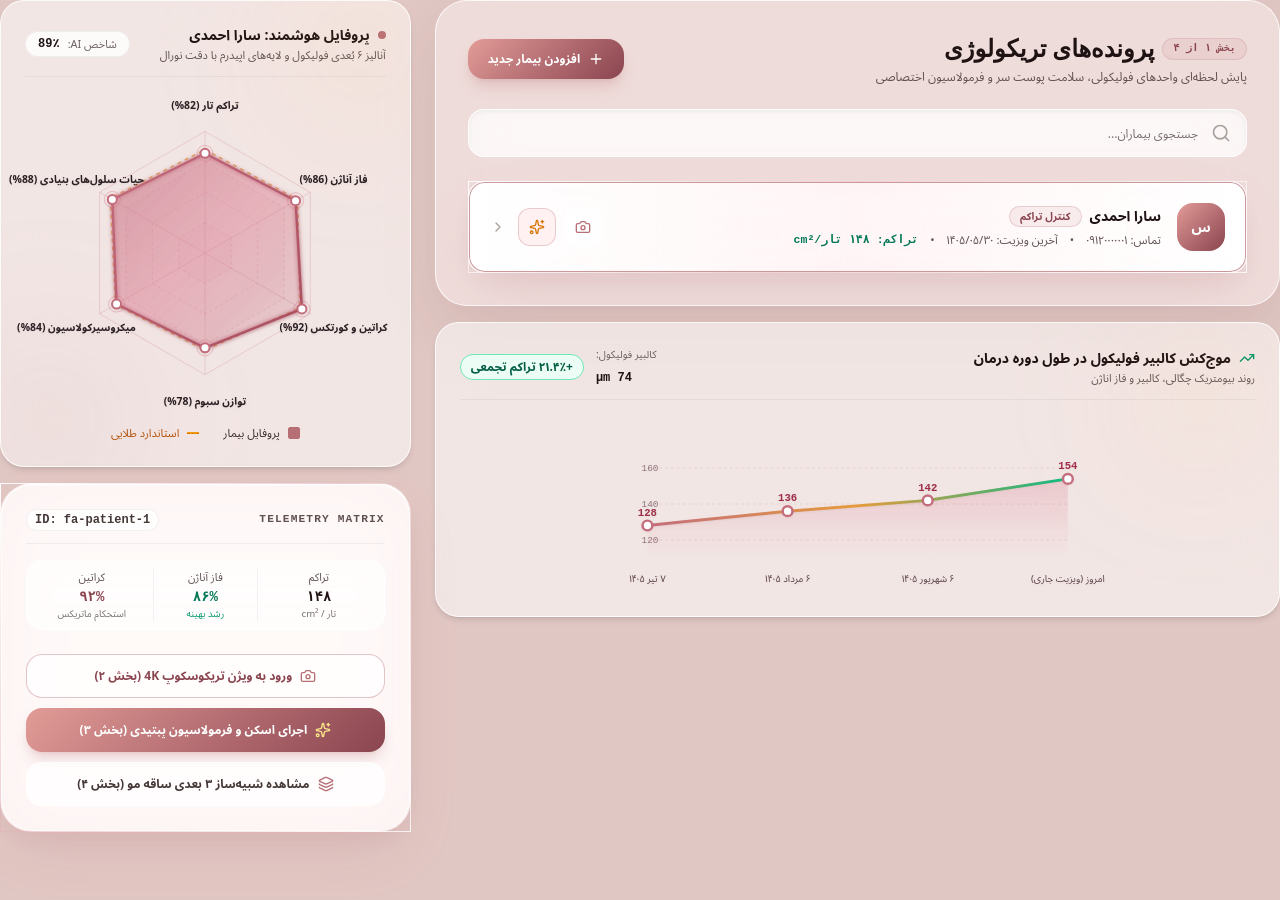
Test: PatientListSection (Phase 5 i18n, Phase B testids) › shows the empty state when the search matches nobody
Type "zzzz-no-such-patient" into the field with test id "patient-search".
click(857, 133); type("zzzz-no-such-patient")  # box x1=468 y1=109 x2=1247 y2=157
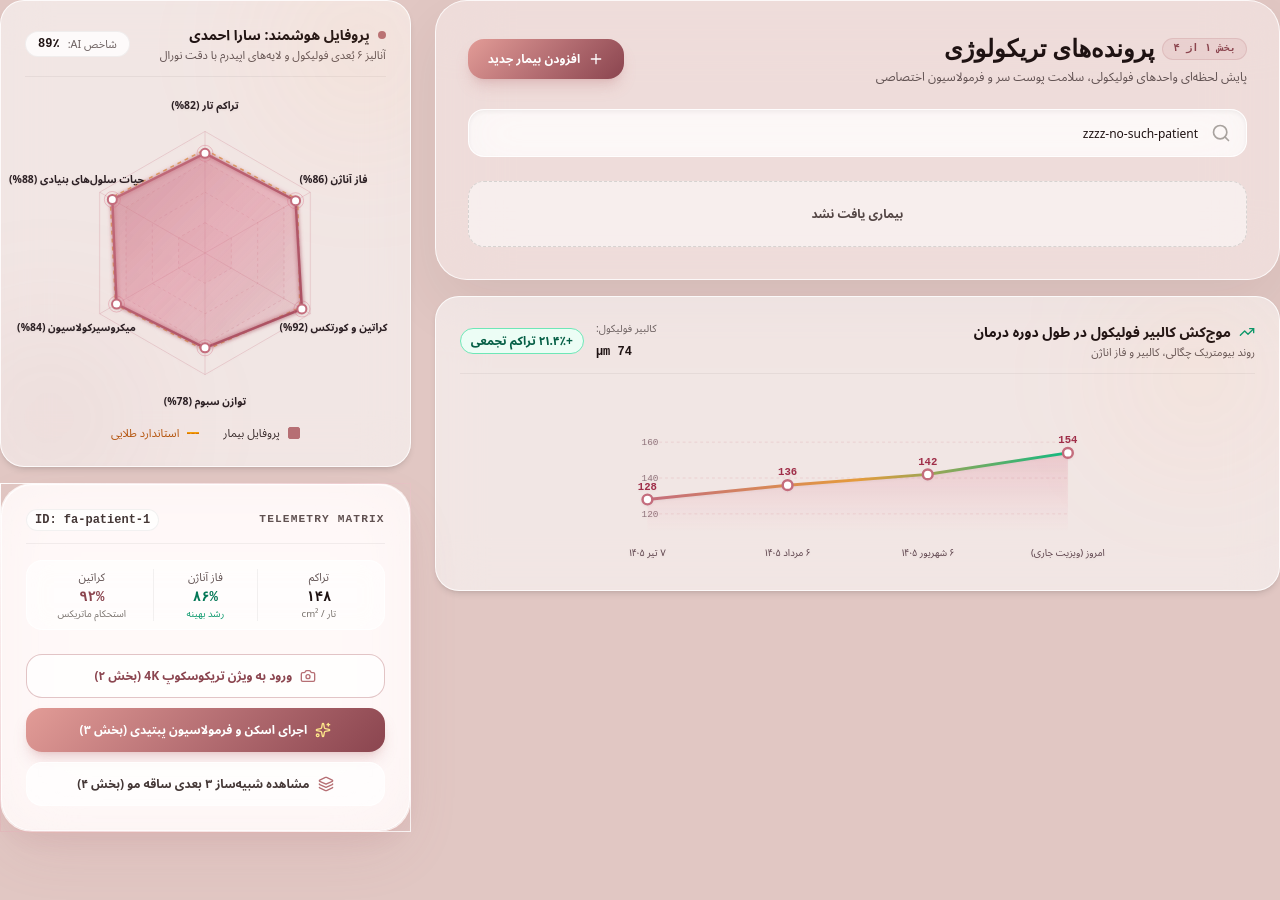
expect the text with test id "patient-list-empty" reads "بیماری یافت نشد": met, box x1=811 y1=205 x2=903 y2=222
